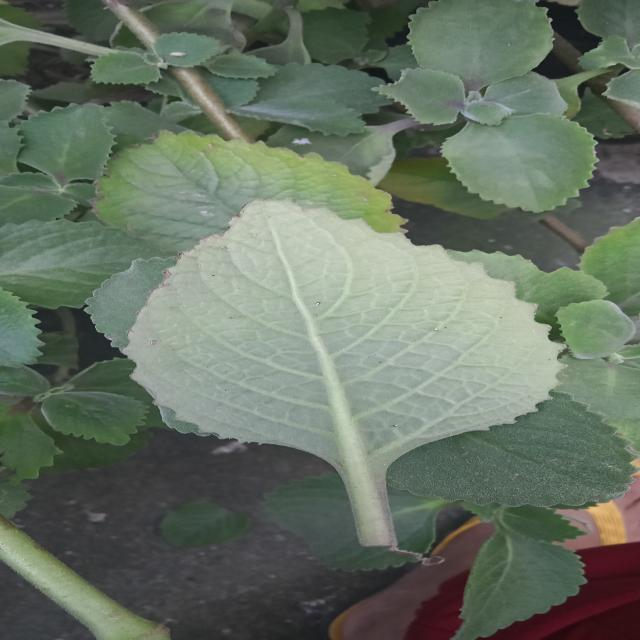Oregano: (83, 183, 609, 505)
